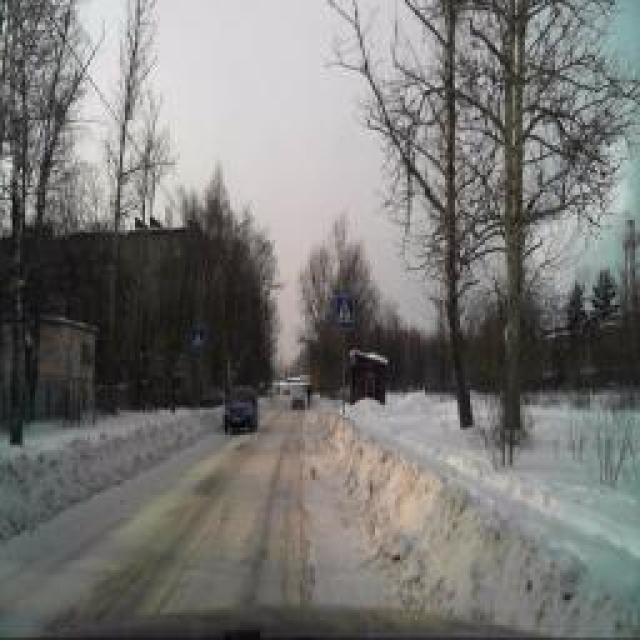sign: (335, 295, 353, 330), (191, 326, 204, 352)
